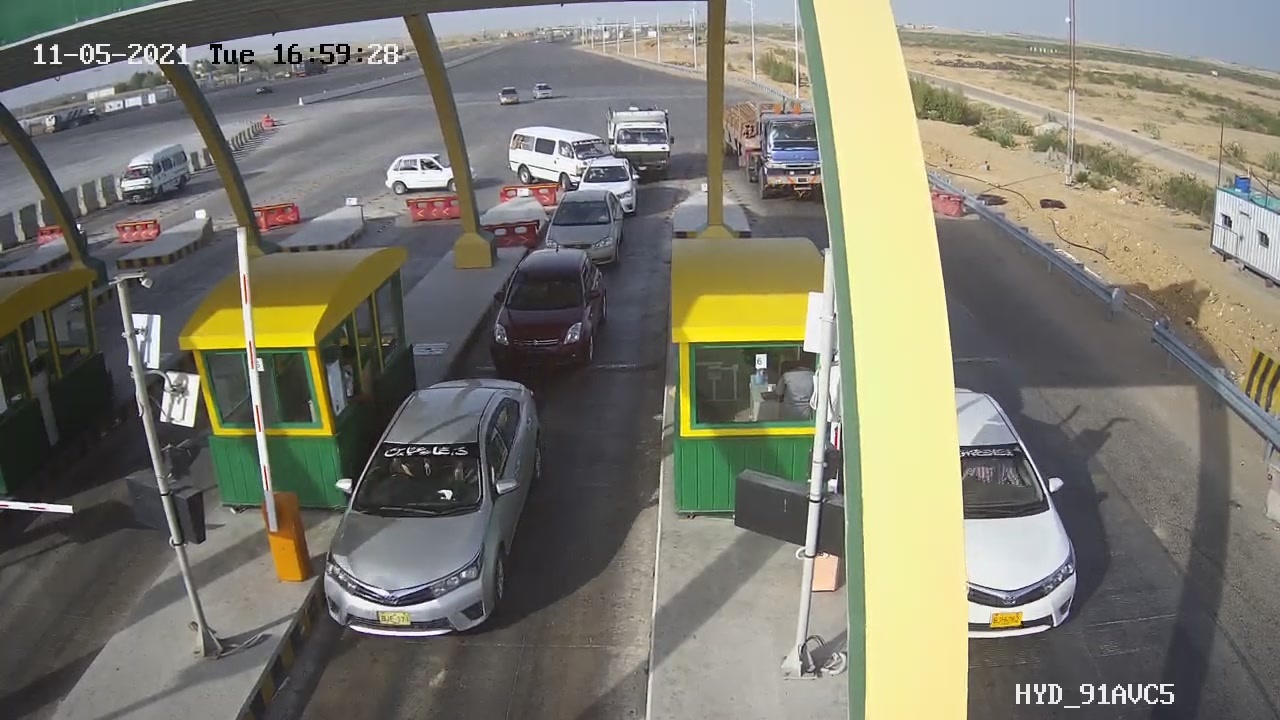F1: (471, 234, 631, 398), (531, 180, 640, 277)
